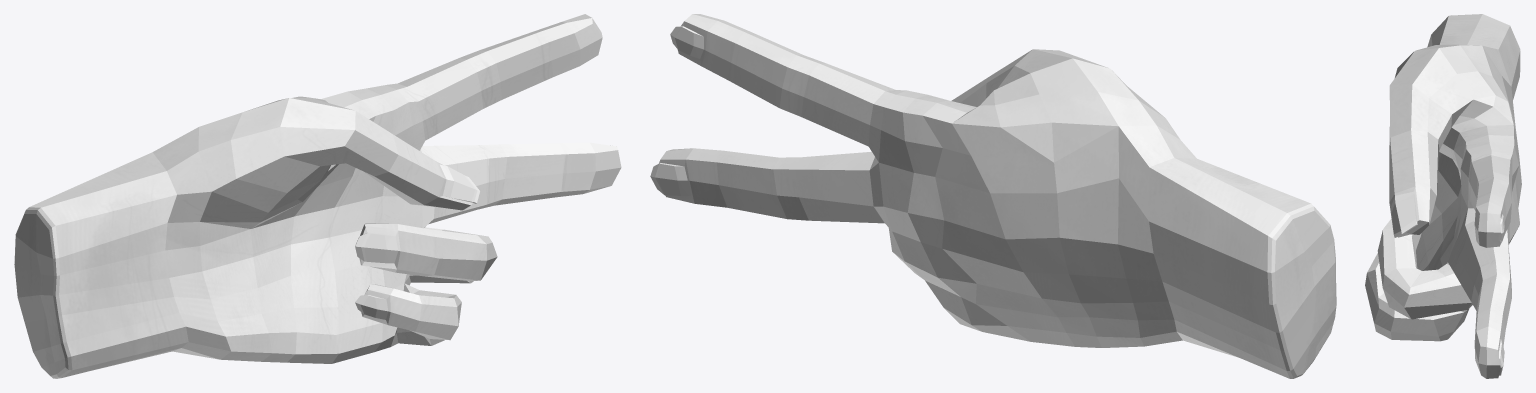
The model's file is l_hard_scissors.glb.
The picture shows the model from 3 angles, left to right: view 1: azimuth 30°, elevation 25°; view 2: azimuth 150°, elevation 25°; view 3: azimuth 270°, elevation 25°; orthographic projection. The views are drawn at different scales.
Visible parts, largest first — view 1: L_Hard_Scissors; view 2: L_Hard_Scissors; view 3: L_Hard_Scissors.
Boxes of the visible parts, <box> form: L_Hard_Scissors: <box>14,14,621,378</box>; L_Hard_Scissors: <box>650,14,1336,378</box>; L_Hard_Scissors: <box>1365,14,1521,378</box>.
Size of the model in its own units: 0.251 by 0.1082 by 0.062.
1 material, 1 textured.
